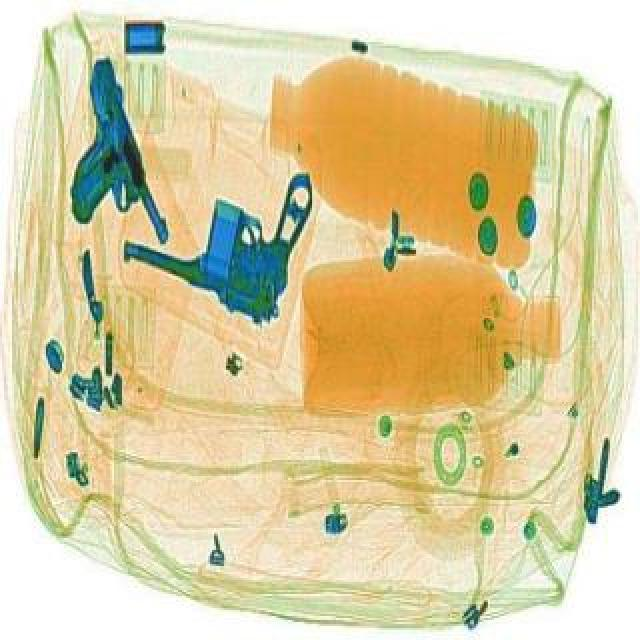gun: (110, 116, 350, 330), (20, 52, 184, 264)
